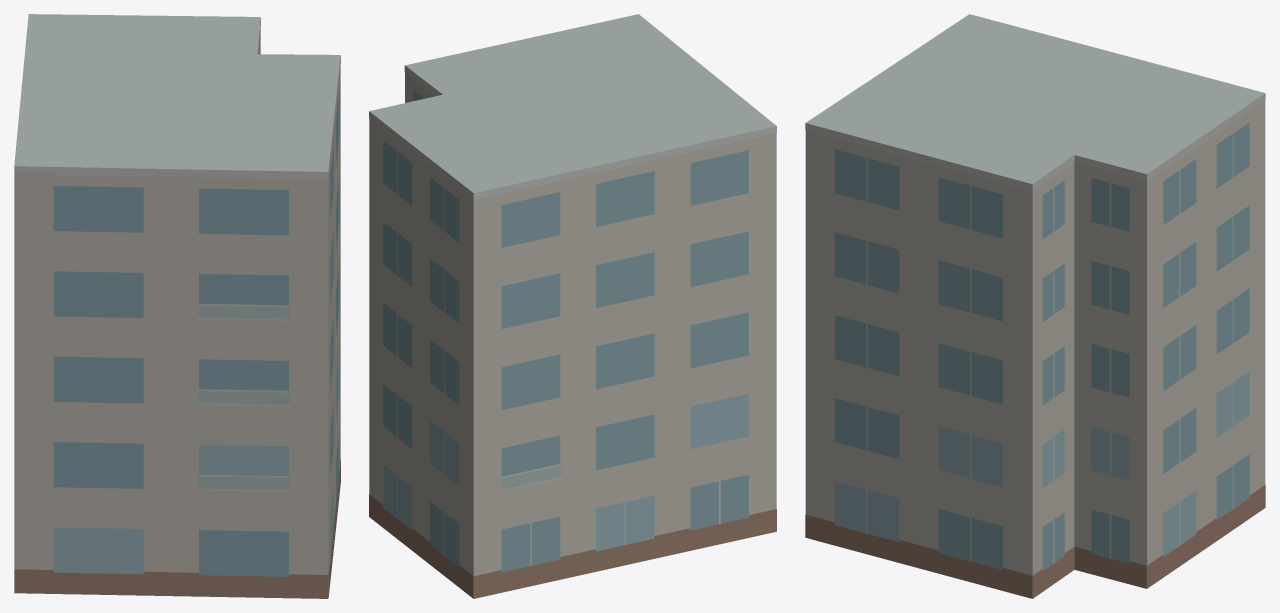
File: survey-upis-32802406.glb
The picture shows the model from 3 angles, left to right: view 1: azimuth 30°, elevation 25°; view 2: azimuth 150°, elevation 25°; view 3: azimuth 270°, elevation 25°; orthographic projection. The views are drawn at different scales.
Parts seen in each view (by area): view 1: survey-upis-32802406.tmp; view 2: survey-upis-32802406.tmp; view 3: survey-upis-32802406.tmp.
Boxes of the visible parts, bbox=[...] form: survey-upis-32802406.tmp: bbox=[14, 14, 340, 598]; survey-upis-32802406.tmp: bbox=[369, 14, 776, 598]; survey-upis-32802406.tmp: bbox=[805, 14, 1265, 598].
Bounding box in the file's own units: 12.24 × 13.9 × 13.98.
